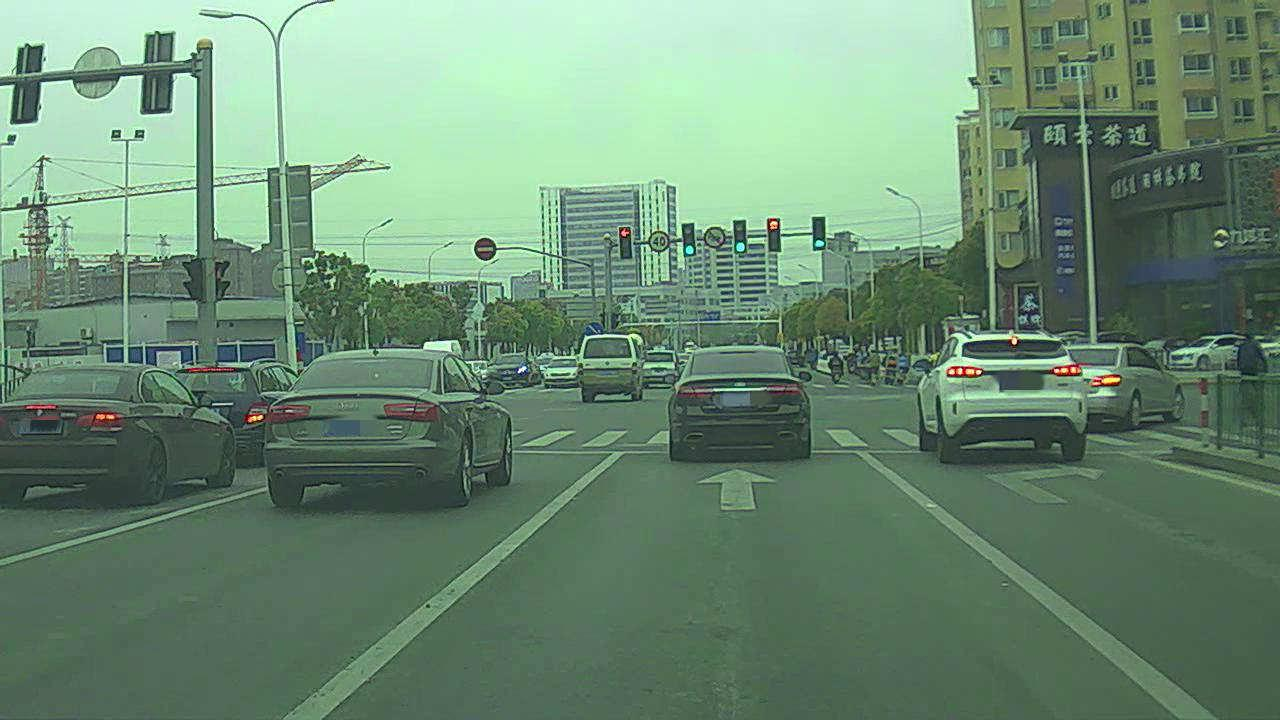traffic_light: (811, 215, 828, 251), (617, 224, 634, 259), (732, 219, 749, 253), (682, 219, 695, 260), (766, 217, 780, 255)
